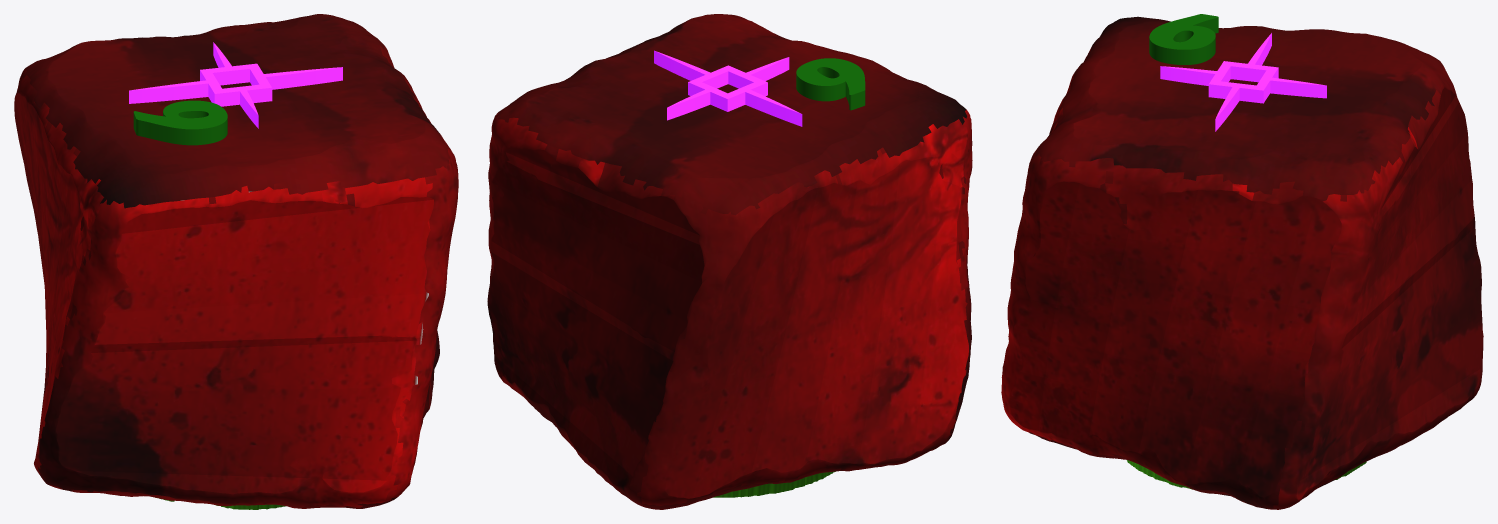
Rendered from stress_twisted.glb.
The picture shows the model from 3 angles, left to right: view 1: azimuth 30°, elevation 25°; view 2: azimuth 150°, elevation 25°; view 3: azimuth 270°, elevation 25°; orthographic projection. The views are drawn at different scales.
Visible parts, largest first — view 1: Alen Twist Final; view 2: Alen Twist Final; view 3: Alen Twist Final.
Part boxes in pixels (x1,y1,x2,y2): Alen Twist Final: [14, 14, 458, 509]; Alen Twist Final: [487, 14, 972, 509]; Alen Twist Final: [1001, 14, 1483, 509].
Size of the model in its own units: 140 by 116 by 138.
Materials: 4 (1 with a texture image).
